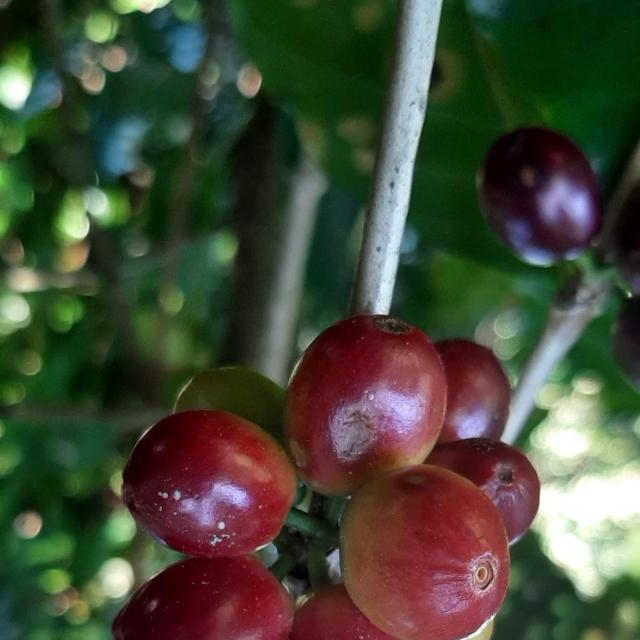green: (173, 367, 285, 444)
red: (122, 410, 298, 559), (478, 127, 604, 266), (112, 556, 294, 640), (426, 438, 541, 545), (435, 339, 512, 444), (290, 585, 396, 640)
yellow: (341, 465, 511, 640), (285, 315, 448, 496)
